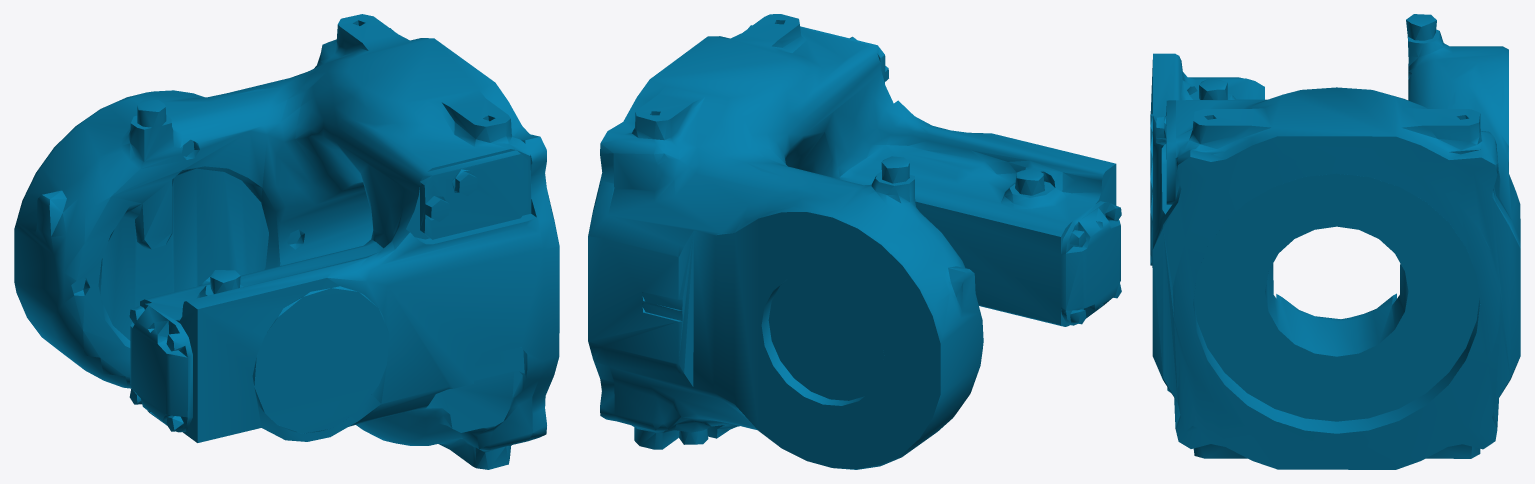
3 renders of one model, left to right at view 1: azimuth 30°, elevation 25°; view 2: azimuth 150°, elevation 25°; view 3: azimuth 270°, elevation 25°, orthographic. The views are drawn at different scales.
Visible parts, largest first — view 1: gp20hl_lk5; view 2: gp20hl_lk5; view 3: gp20hl_lk5.
Part boxes in pixels (x1,y1,x2,y2): gp20hl_lk5: (14,14,559,469); gp20hl_lk5: (588,14,1121,469); gp20hl_lk5: (1150,14,1520,469).
Bounding box in the file's own units: 0.1488 × 0.1292 × 0.1283.
